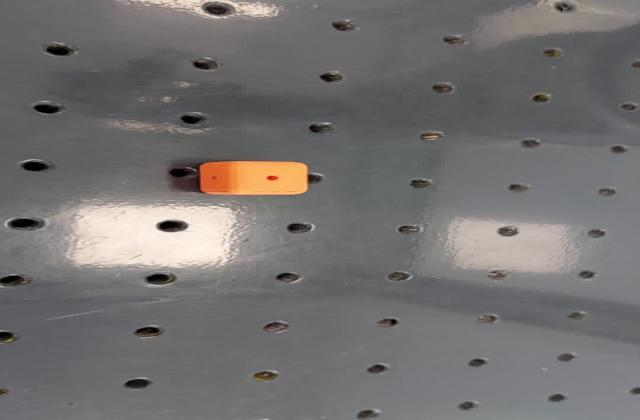cube: (196, 158, 314, 198)
